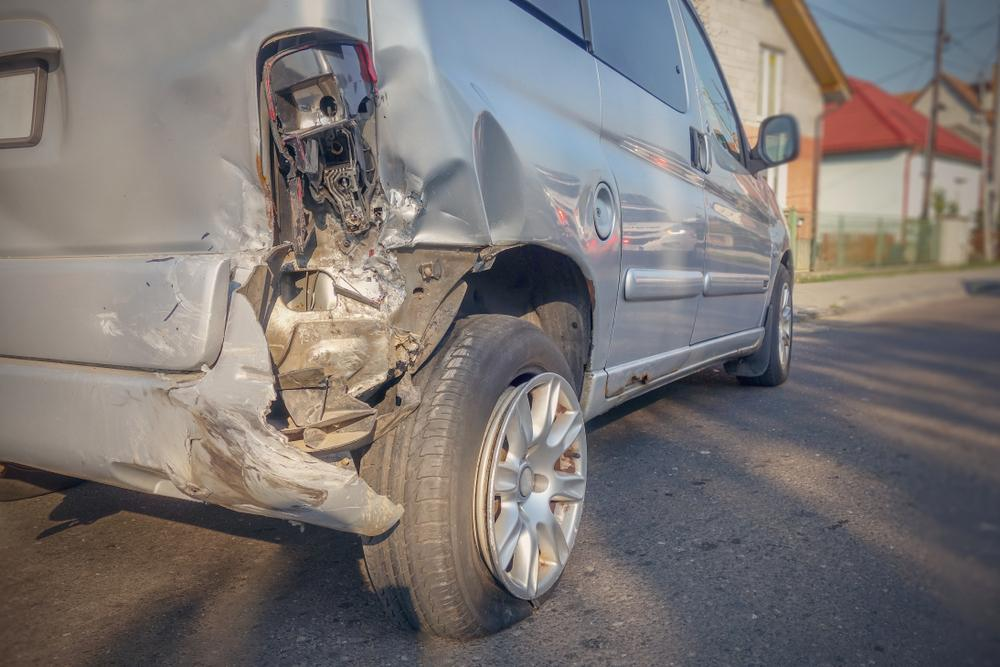dent: (88, 37, 271, 264), (379, 47, 532, 255)
scratch: (173, 384, 339, 519)
tire flat: (361, 310, 593, 641)
